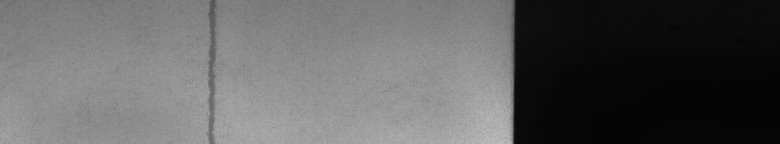hd: (204, 4, 220, 136)
